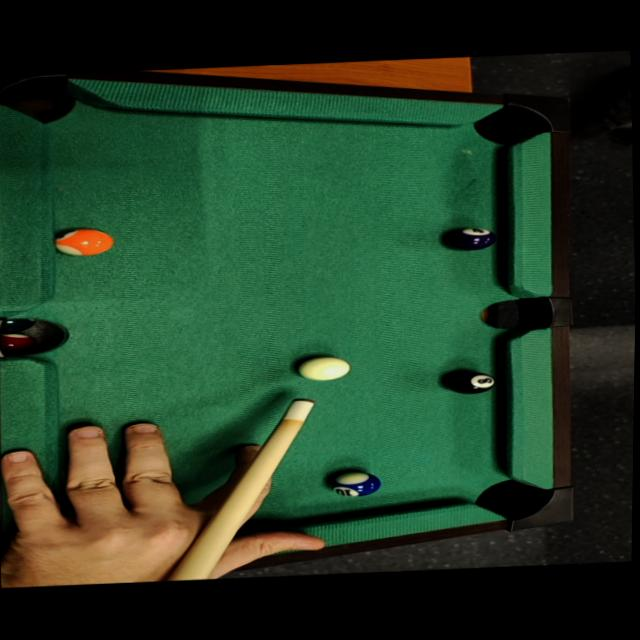cue ball: (292, 353, 352, 381)
other: (55, 225, 114, 257), (327, 466, 381, 498), (444, 223, 500, 251), (443, 366, 497, 395)
